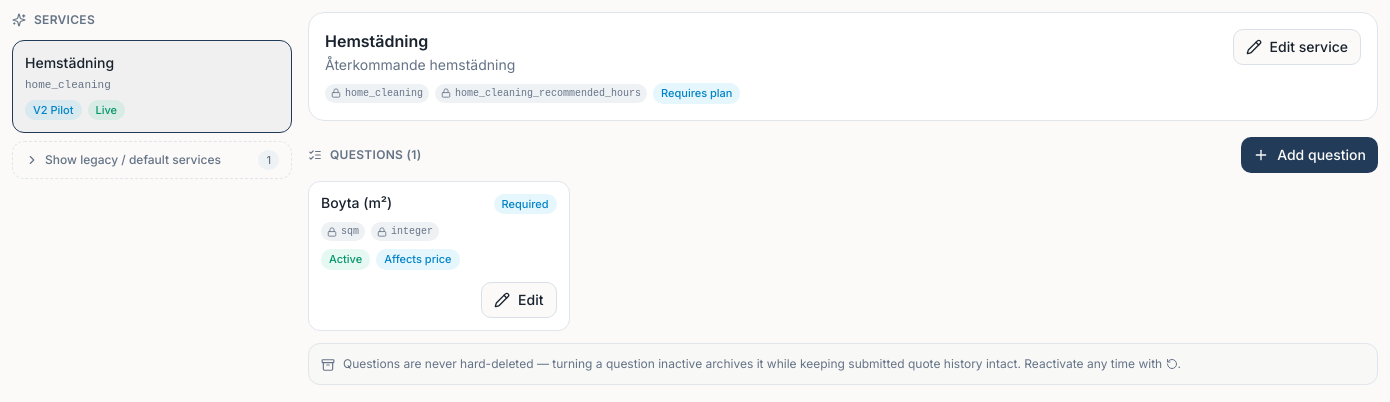
it: ServicesFieldsEditor › renders services and the selected service's questions
Expected: the text "Hemstädning" is shown, [25,54,114,71]
Expected: the text "Boyta (m²)" is shown, [321,194,392,211]
Click the button "Show legacy / default services 1" at [152, 160], box [12,141,292,179]
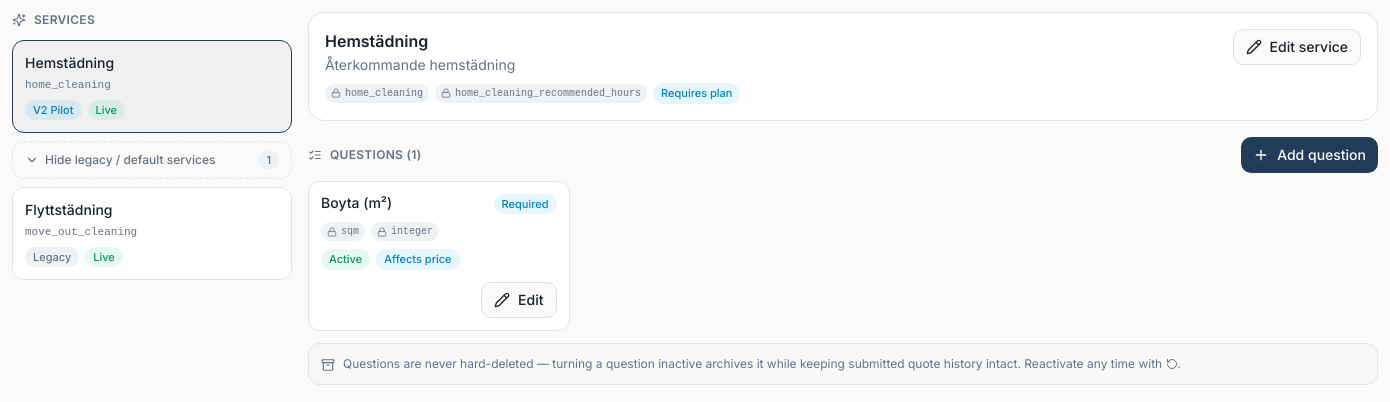
Expected: the text "Flyttstädning" is shown, [25,201,112,218]
